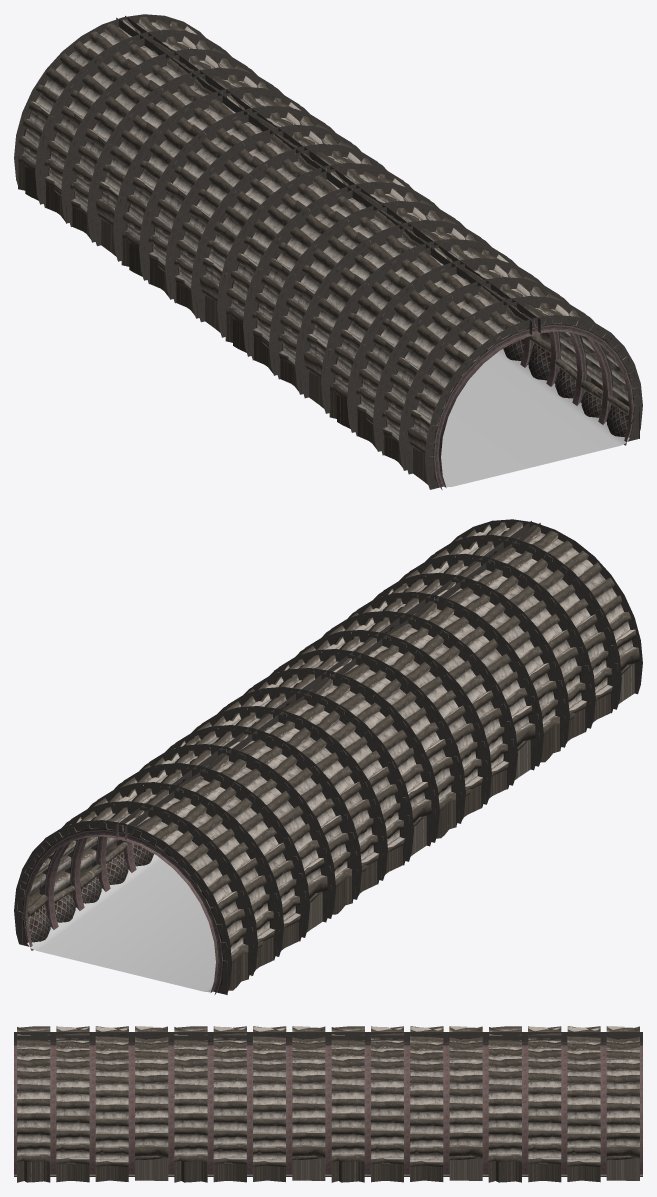
Rendered from tunnel_tile_5.dae.
3 renders of one model, top to bottom at view 1: azimuth 30°, elevation 25°; view 2: azimuth 150°, elevation 25°; view 3: azimuth 270°, elevation 25°, orthographic. The views are drawn at different scales.
Parts seen in each view (by area): view 1: Walls, Ground, Chainlink, Wood; view 2: Walls, Ground, Chainlink, Wood; view 3: Walls, Wood.
Part boxes in pixels (box(x1,y1,x2,y2)): Walls: box(14, 14, 642, 489); Ground: box(441, 349, 629, 487); Chainlink: box(440, 338, 634, 489); Wood: box(52, 186, 633, 459); Walls: box(14, 519, 642, 994); Ground: box(27, 854, 215, 992); Chainlink: box(22, 665, 632, 994); Wood: box(22, 664, 631, 967); Walls: box(14, 1026, 642, 1182); Wood: box(66, 1155, 634, 1165).
Bounding box in the file's own units: 6.06 × 20 × 3.99.
